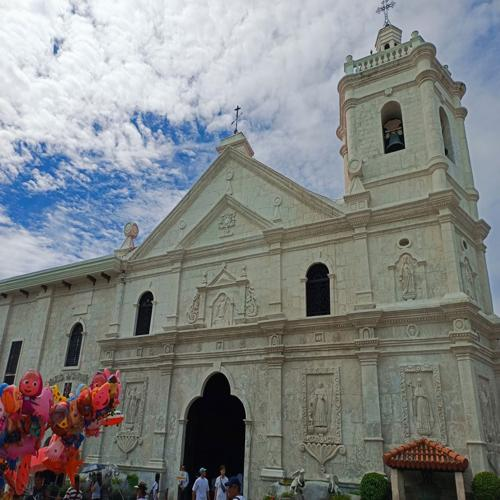Sto. Nino Basilica Church: (88, 1, 500, 498)
